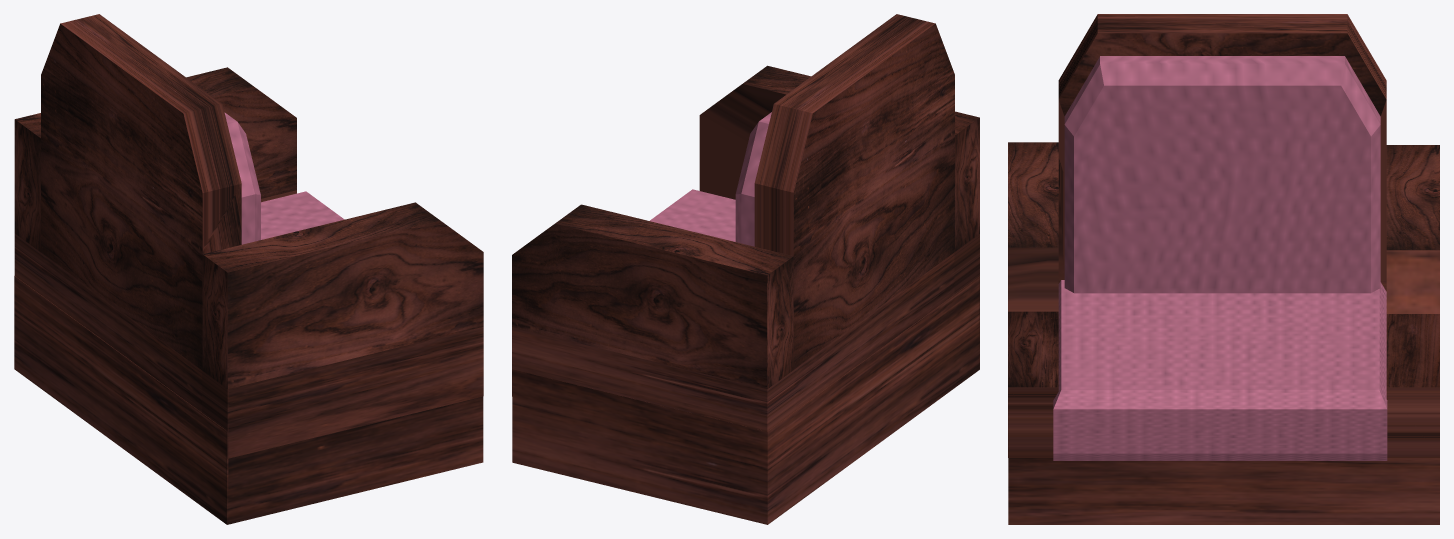
File: Armchair.fbx
3 renders of one model, left to right at view 1: azimuth 30°, elevation 25°; view 2: azimuth 150°, elevation 25°; view 3: azimuth 270°, elevation 25°, orthographic.
Parts seen in each view (by area): view 1: Cube.030, Cube.032, Cube.031; view 2: Cube.030, Cube.032, Cube.031; view 3: Cube.030, Cube.031, Cube.032.
Boxes of the visible parts, left/top/right/bottom form: Cube.030: left=14, top=14, right=483, bottom=458; Cube.032: left=14, top=275, right=483, bottom=524; Cube.031: left=261, top=191, right=344, bottom=239; Cube.030: left=512, top=14, right=979, bottom=431; Cube.032: left=512, top=276, right=979, bottom=524; Cube.031: left=650, top=189, right=735, bottom=241; Cube.030: left=1008, top=14, right=1439, bottom=457; Cube.031: left=1053, top=280, right=1387, bottom=460; Cube.032: left=1008, top=458, right=1439, bottom=524.
Bounding box in the file's own units: 105 × 140 × 138.
